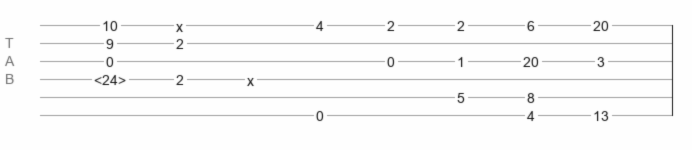0: (106, 54, 114, 64), (316, 108, 324, 118), (387, 54, 395, 64)
1: (457, 54, 465, 64)
10: (102, 18, 118, 28)
13: (593, 108, 609, 118)
2: (176, 36, 184, 46), (176, 72, 184, 82), (387, 18, 395, 28), (457, 18, 465, 28)
20: (523, 54, 539, 64), (593, 18, 609, 28)
3: (597, 54, 605, 64)
4: (316, 18, 324, 28), (527, 108, 535, 118)
5: (457, 90, 465, 100)
6: (527, 18, 535, 28)
8: (527, 90, 535, 100)
9: (106, 36, 114, 46)
harmonic: (94, 72, 126, 82)
x: (176, 19, 183, 27), (247, 73, 254, 81)
